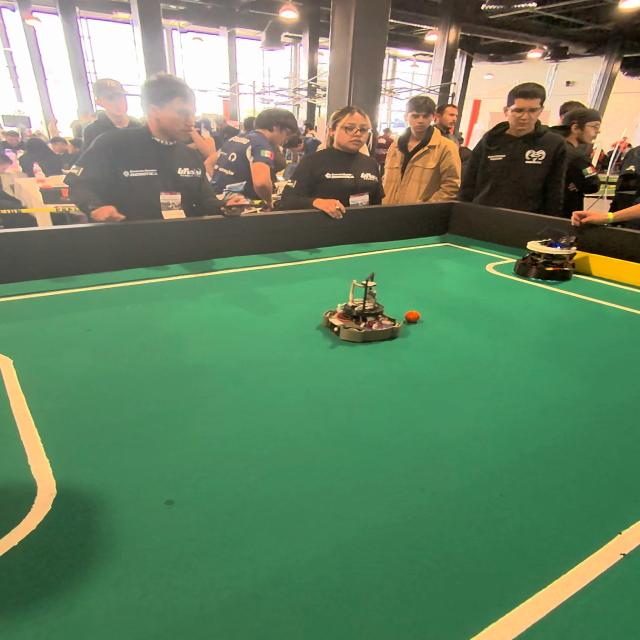Robot: (320, 273, 397, 350), (514, 229, 580, 286)
pelota: (406, 310, 424, 323)
